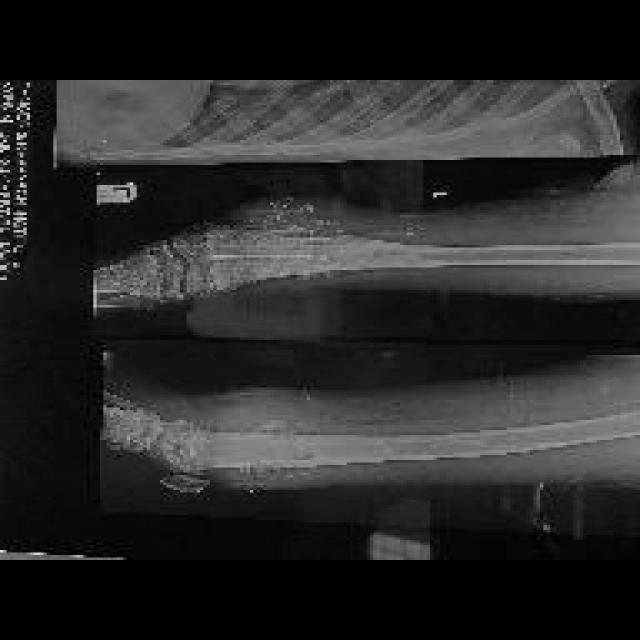bone-cancer: (218, 196, 341, 280), (212, 418, 318, 490)
